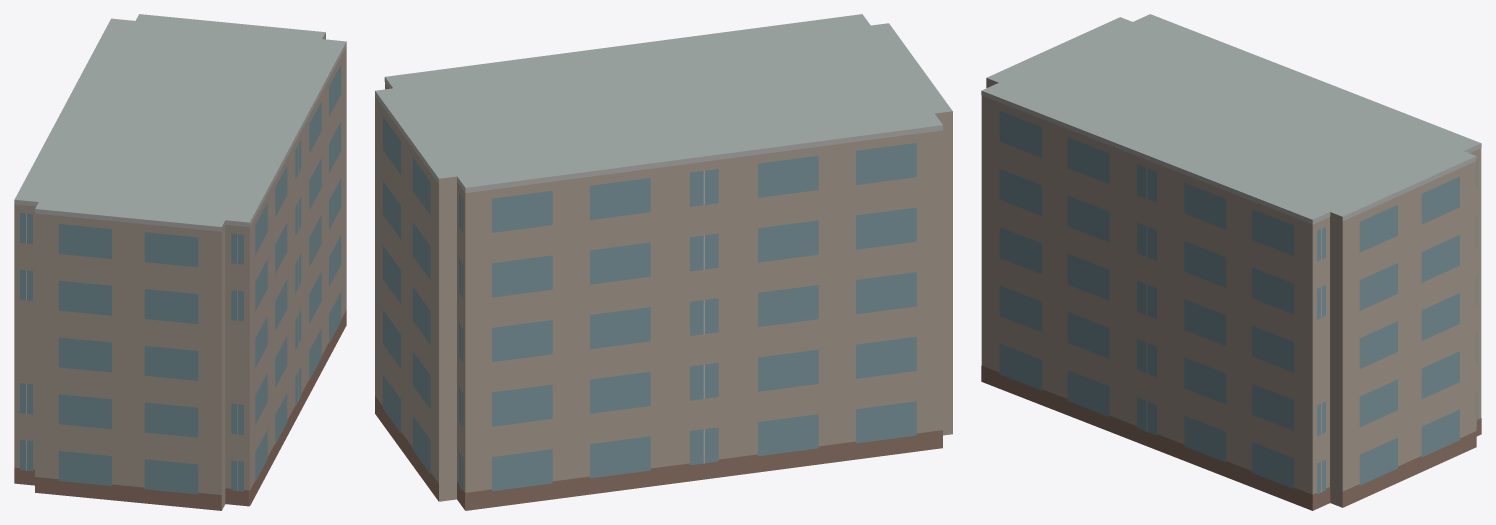
The model's file is survey-upis-32871156.glb.
The picture shows the model from 3 angles, left to right: view 1: azimuth 30°, elevation 25°; view 2: azimuth 150°, elevation 25°; view 3: azimuth 270°, elevation 25°; orthographic projection. The views are drawn at different scales.
Visible parts, largest first — view 1: survey-upis-32871156.tmp; view 2: survey-upis-32871156.tmp; view 3: survey-upis-32871156.tmp.
Boxes of the visible parts, left/top/right/bottom form: survey-upis-32871156.tmp: left=14, top=14, right=346, bottom=510; survey-upis-32871156.tmp: left=375, top=14, right=952, bottom=510; survey-upis-32871156.tmp: left=981, top=14, right=1481, bottom=510.
Bounding box in the file's own units: 22.83 × 15.05 × 23.44.
